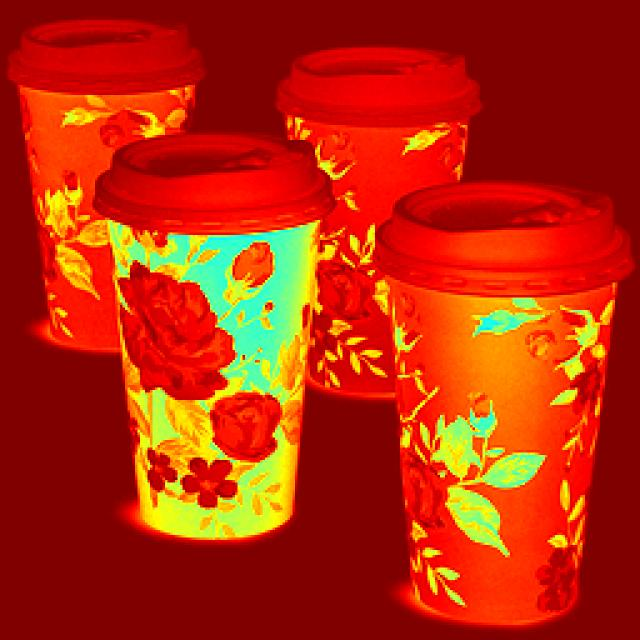Paper Cups: (370, 192, 604, 638), (100, 138, 323, 560), (20, 31, 167, 297), (291, 48, 467, 234)
